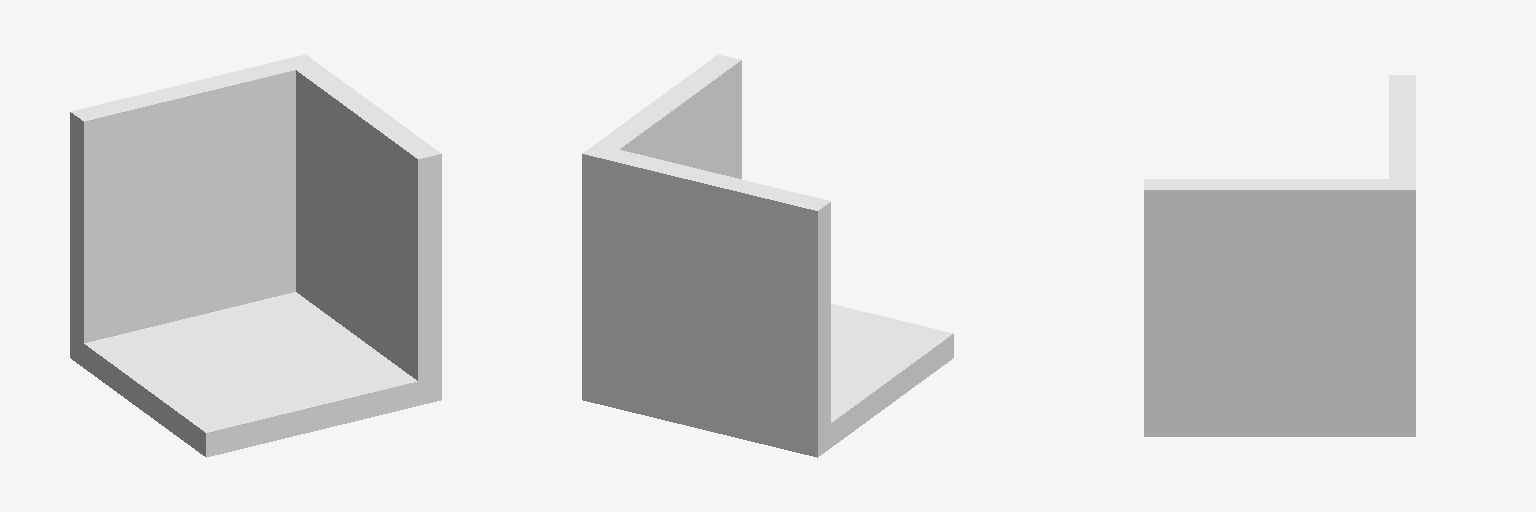
3 renders of one model, left to right at view 1: azimuth 30°, elevation 25°; view 2: azimuth 150°, elevation 25°; view 3: azimuth 270°, elevation 25°, orthographic.
Visible parts, largest first — view 1: BL; view 2: BL; view 3: BL.
Boxes of the visible parts, x1=… form: BL: x1=70, y1=54, x2=441, y2=457; BL: x1=582, y1=54, x2=953, y2=457; BL: x1=1144, y1=75, x2=1415, y2=436.
Size of the model in its own units: 10 by 10 by 10.